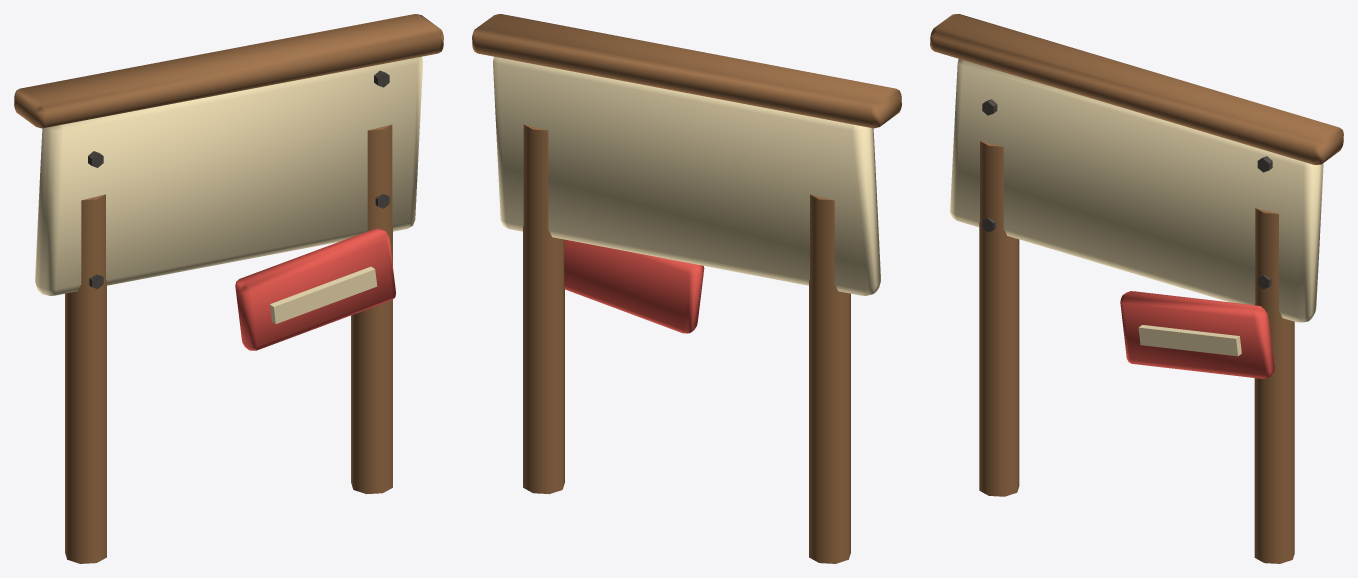
The model's file is v_plot_sign.glb.
3 views of the same model, side by side, from view 1: azimuth 30°, elevation 25°; view 2: azimuth 150°, elevation 25°; view 3: azimuth 330°, elevation 25° (orthographic). The views are drawn at different scales.
Visible parts, largest first — view 1: PlotSign; view 2: PlotSign; view 3: PlotSign.
Part boxes in pixels (x1,y1,x2,y2): PlotSign: (14,14,443,563); PlotSign: (472,14,901,563); PlotSign: (930,14,1343,563).
Bounding box in the file's own units: 1.2 × 1.33 × 0.18.
